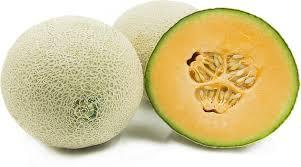Melon Ripe: (146, 7, 300, 150), (2, 15, 144, 150)
